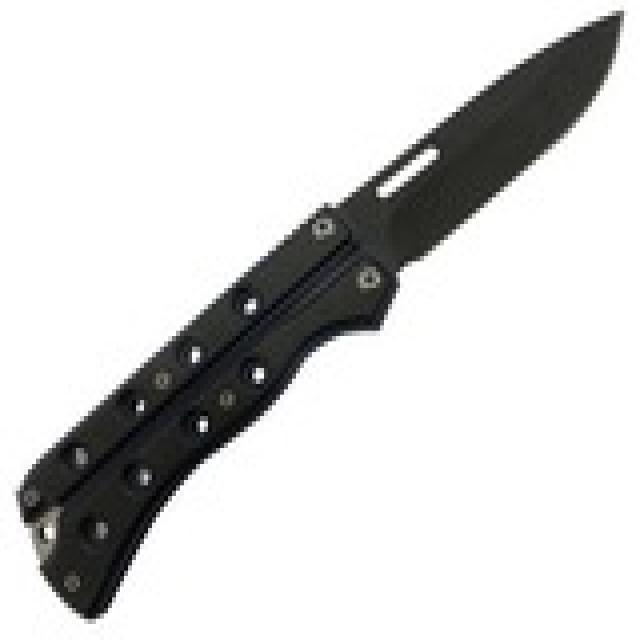Knife: (8, 0, 634, 626)
